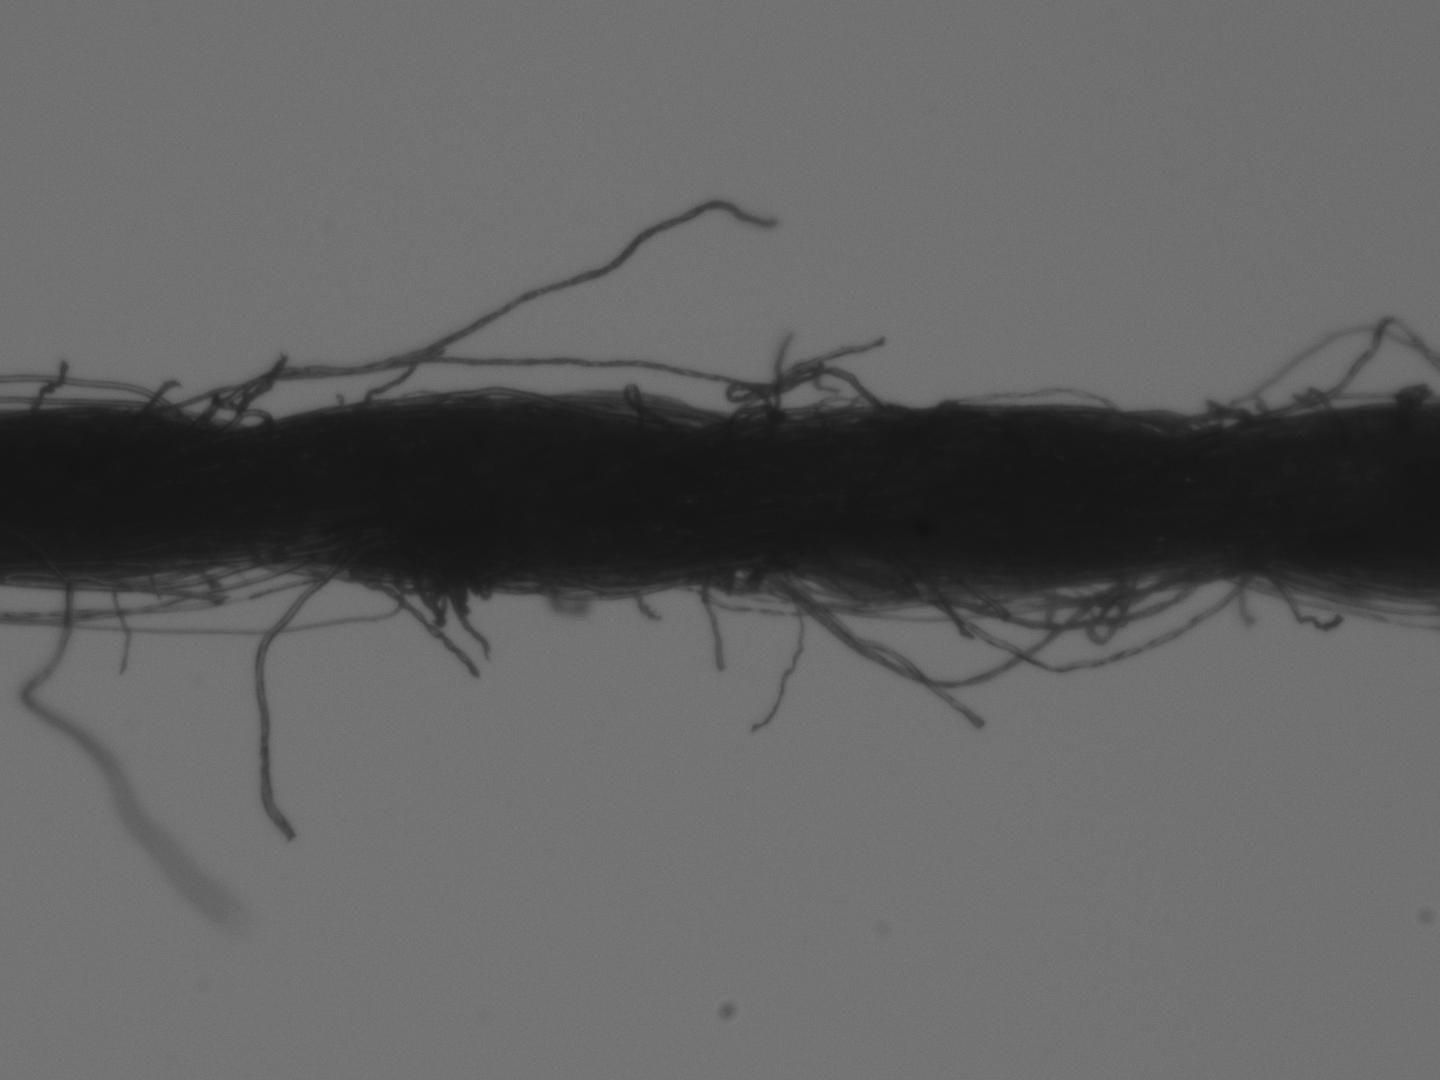loop_fiber: (768, 571, 1124, 692), (164, 352, 776, 417), (920, 566, 1253, 676), (921, 566, 1220, 632), (722, 361, 881, 427), (63, 562, 298, 600), (359, 575, 492, 624), (1032, 567, 1196, 601), (183, 390, 274, 436), (1175, 395, 1252, 434)
protruding_fiber: (354, 196, 781, 403), (694, 571, 730, 676)
